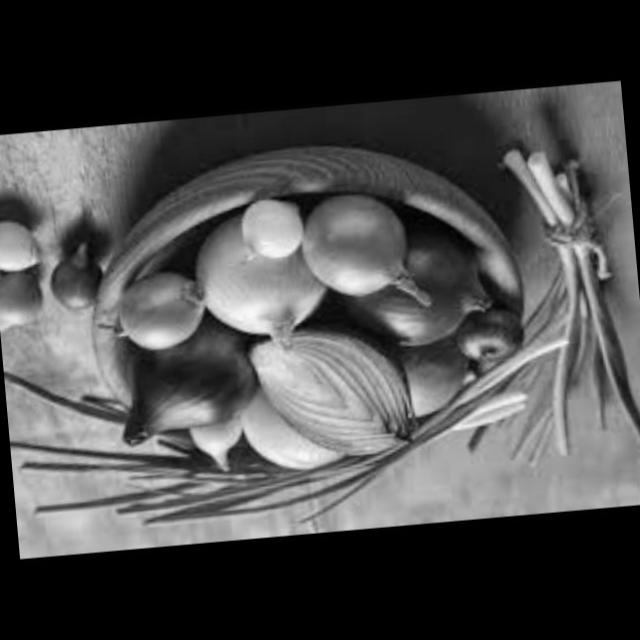cu hanh: (235, 316, 422, 468), (326, 230, 498, 360), (93, 331, 264, 456), (194, 215, 324, 362), (296, 188, 434, 320), (377, 329, 485, 428), (226, 393, 334, 491), (107, 267, 216, 357), (211, 178, 305, 278), (180, 395, 254, 481), (447, 306, 532, 364), (48, 240, 106, 318), (0, 209, 43, 286), (0, 270, 47, 337)
